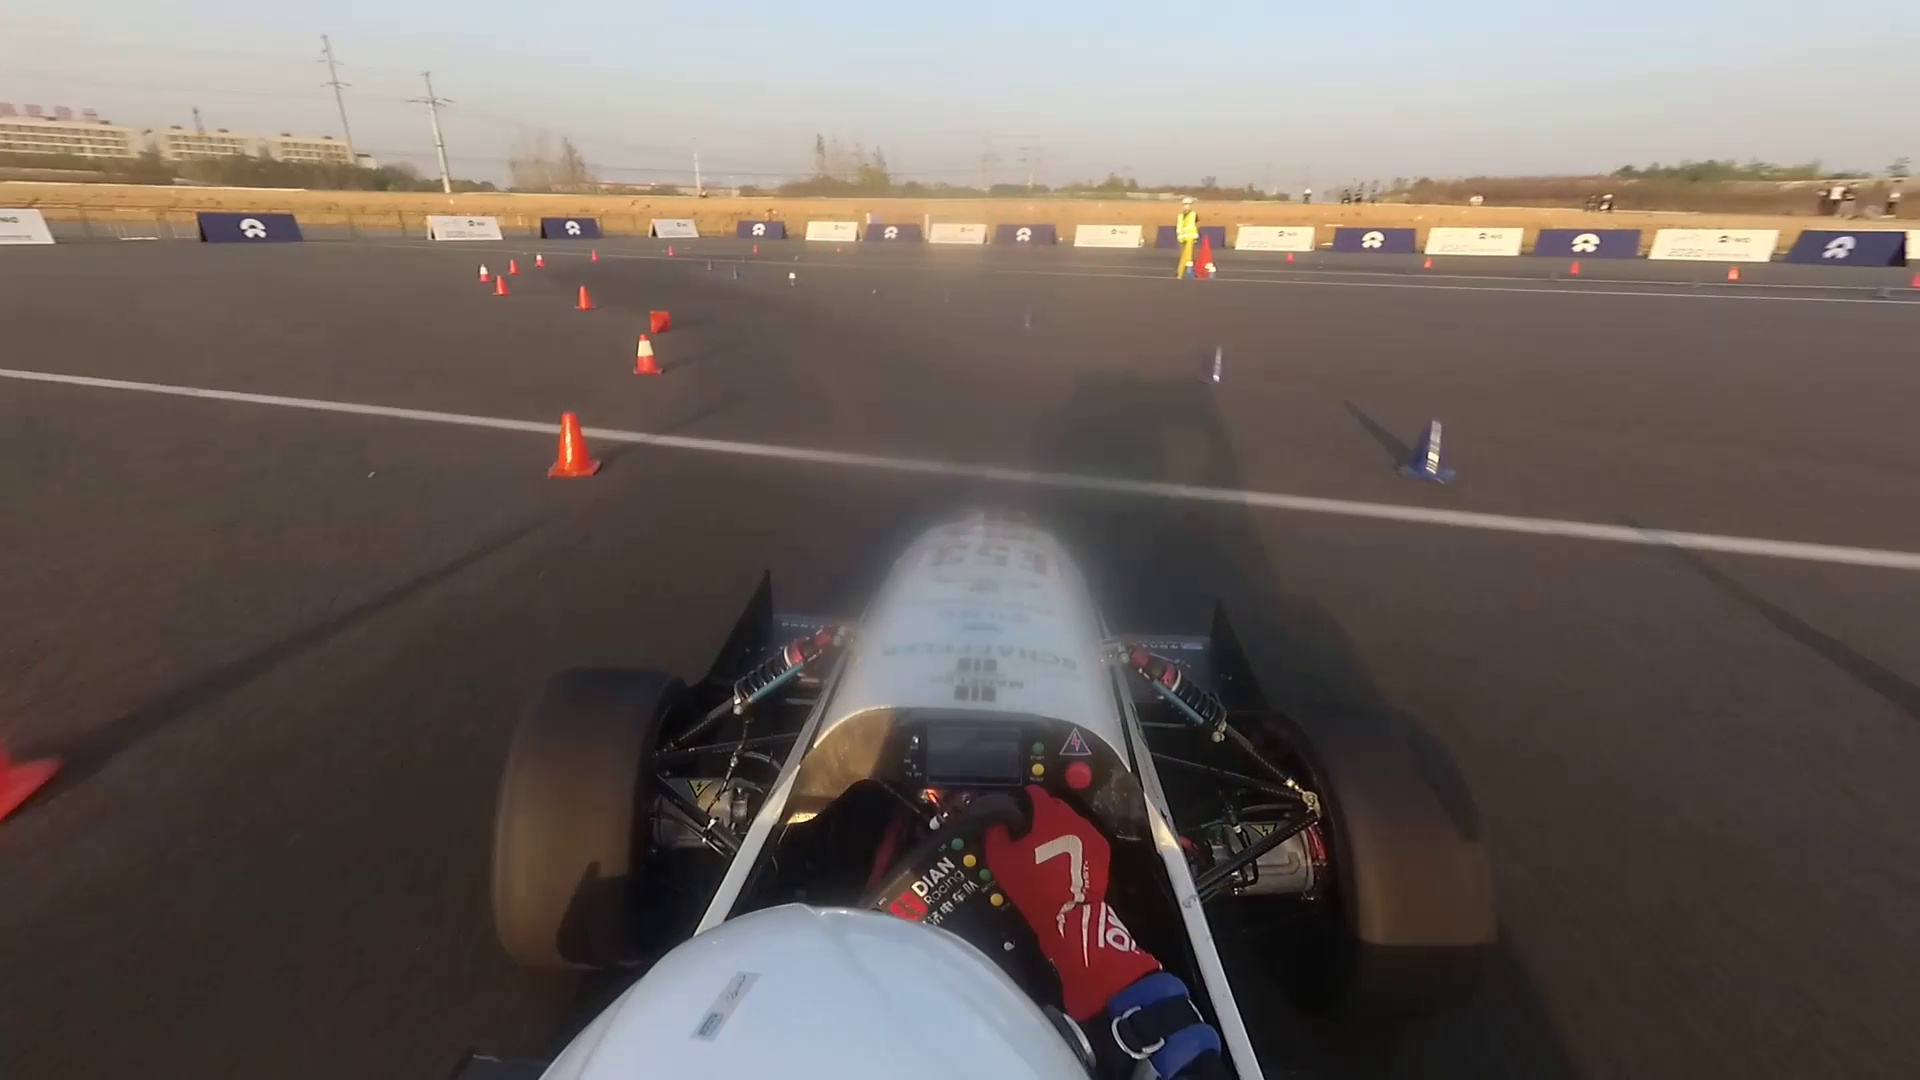blue_cone: (1385, 413, 1466, 488), (1011, 301, 1046, 336), (1199, 345, 1229, 385), (1875, 276, 1891, 302), (782, 266, 799, 290), (942, 287, 957, 305), (869, 284, 884, 298), (729, 265, 738, 280), (704, 258, 713, 272), (793, 251, 800, 262)
red_cone: (531, 404, 613, 484), (632, 335, 669, 376), (644, 307, 678, 336), (568, 281, 597, 314), (1724, 262, 1743, 284), (1567, 257, 1585, 277), (493, 274, 509, 295), (477, 262, 491, 284), (1909, 268, 1920, 291), (588, 248, 603, 265), (1284, 247, 1299, 262), (509, 257, 521, 276), (1422, 253, 1433, 272), (534, 251, 545, 269), (750, 241, 762, 256), (666, 247, 676, 256)
